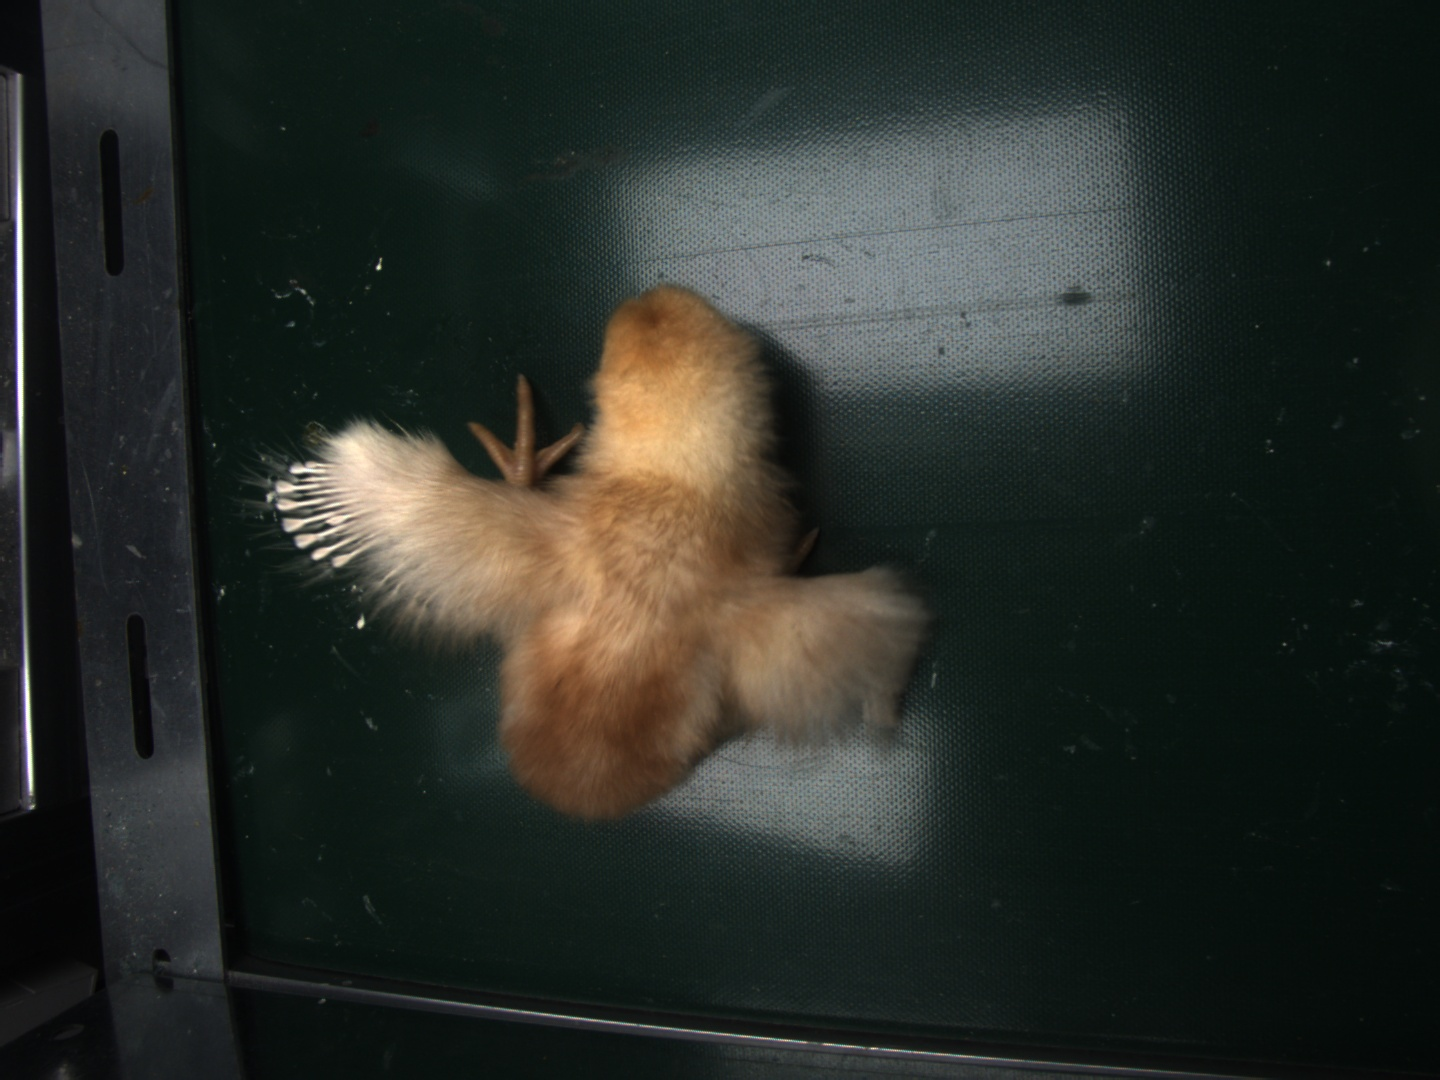female: (273, 462, 369, 571)
